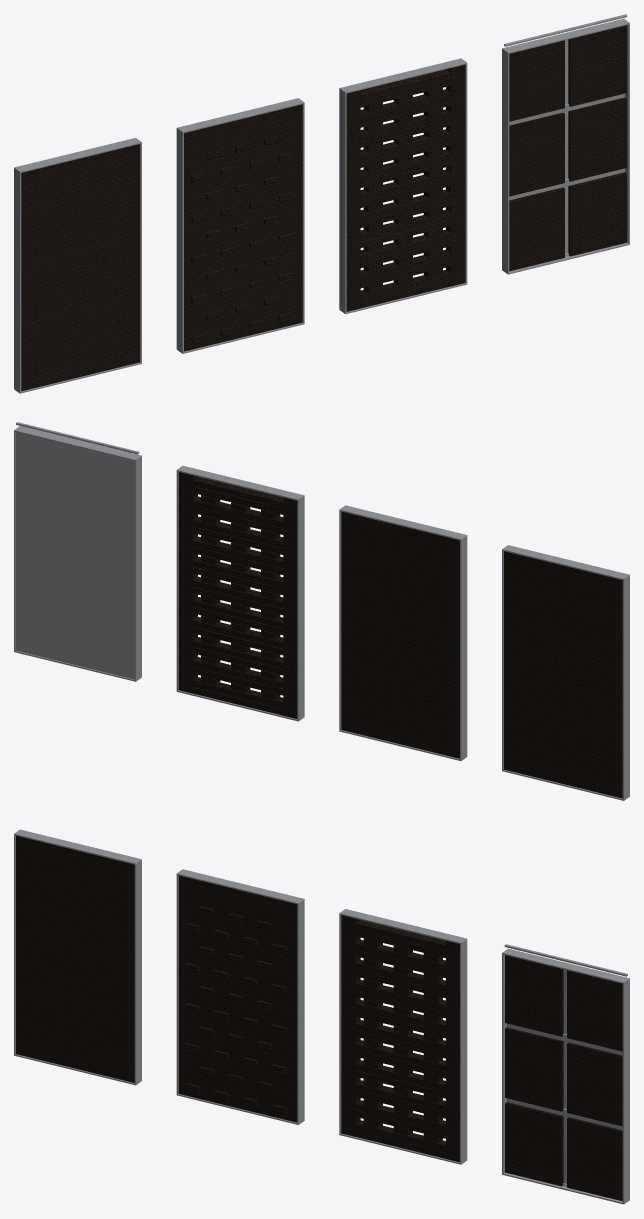
The model's file is facade-candidates.glb.
The picture shows the model from 3 angles, top to bottom: view 1: azimuth 30°, elevation 25°; view 2: azimuth 150°, elevation 25°; view 3: azimuth 330°, elevation 25°; orthographic projection.
Visible parts, largest first — view 1: candidate_4_demountable, candidate_2_relief, candidate_1_flat, candidate_3_screen; view 2: candidate_4_demountable, candidate_2_relief, candidate_1_flat, candidate_3_screen; view 3: candidate_4_demountable, candidate_2_relief, candidate_1_flat, candidate_3_screen.
Part boxes in pixels (box(x1,y1,x2,y2)): candidate_4_demountable: box(502, 14, 629, 274); candidate_2_relief: box(176, 98, 304, 353); candidate_1_flat: box(14, 138, 141, 393); candidate_3_screen: box(339, 58, 467, 314); candidate_4_demountable: box(14, 422, 141, 681); candidate_2_relief: box(339, 505, 467, 760); candidate_1_flat: box(502, 545, 629, 800); candidate_3_screen: box(176, 465, 304, 721); candidate_4_demountable: box(502, 944, 629, 1204); candidate_2_relief: box(176, 869, 304, 1124); candidate_1_flat: box(14, 829, 141, 1085); candidate_3_screen: box(339, 909, 467, 1164).
Bounding box in the file's own units: 21 × 7.49 × 0.4299.
Materials: 8 (4 with a texture image).
